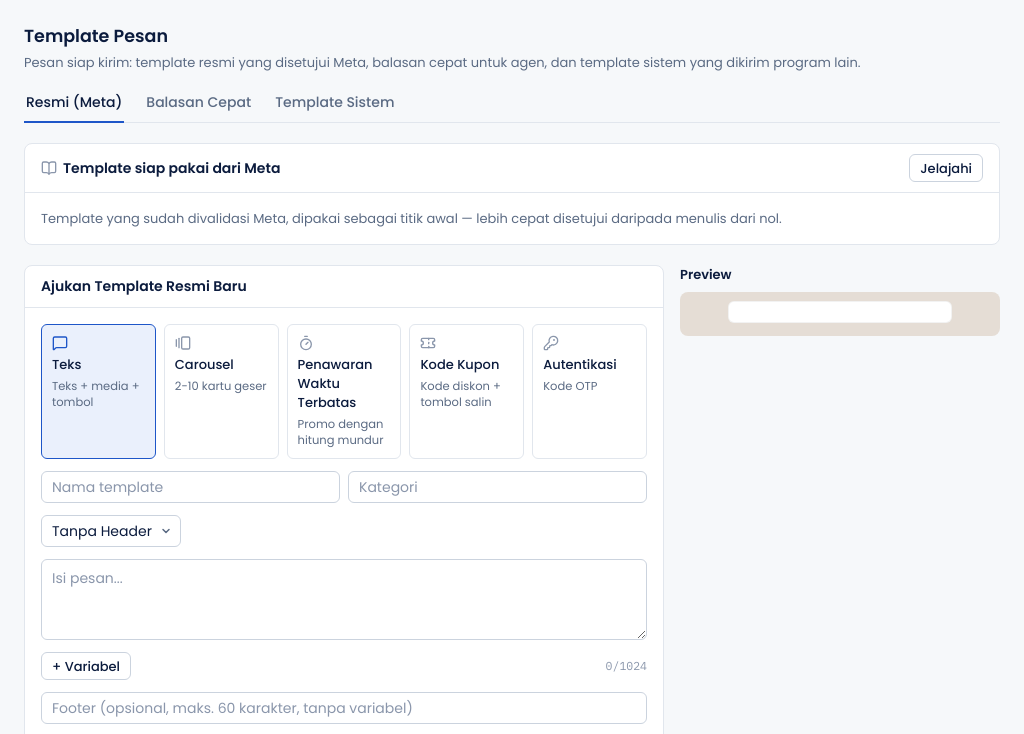
Test: TemplatesPage — LTO builder › shows the offer title field only when format is switched to LTO
The width and height of the screenshot is (1024, 734).
Expected: the element named "Format template" is shown, [41,324,647,459]
Expected: the field labelled "Judul penawaran" is not shown
What coordinates should you click on to do the following:
click the text "Penawaran Waktu Terbatas"
I would click on:
 (335, 384)
Its box is [298,355,372,412].
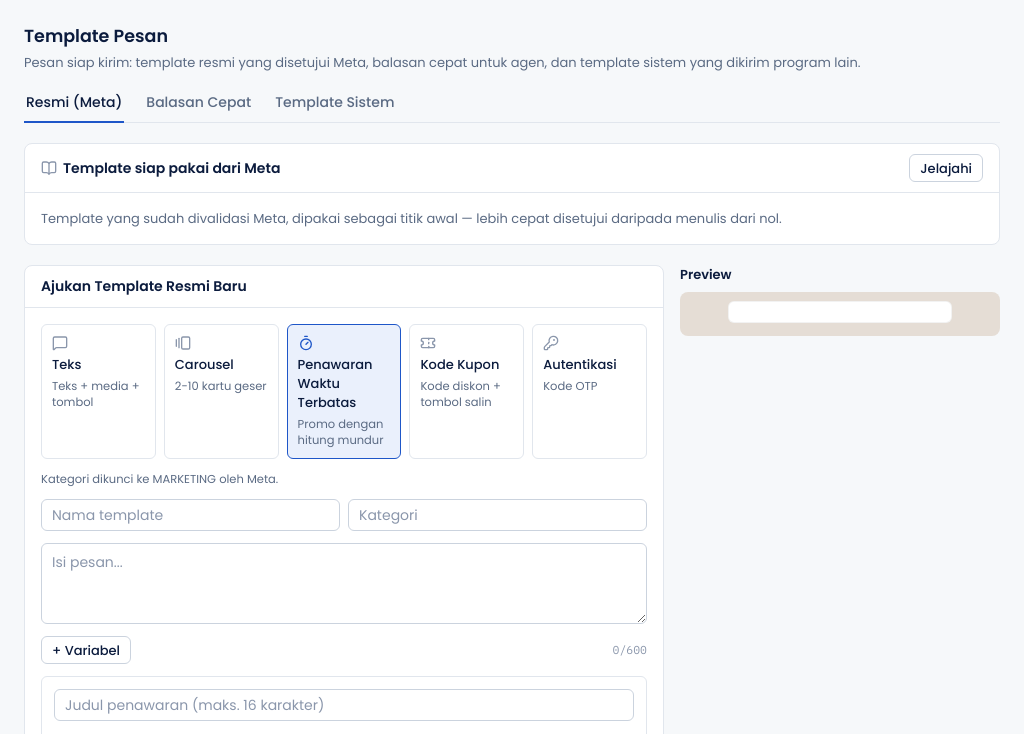
Expected: the field labelled "Judul penawaran" is shown, [54,689,634,721]
